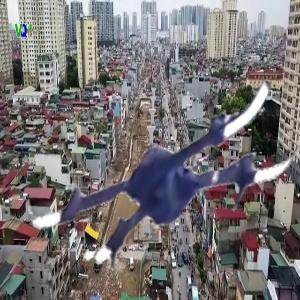drone: (24, 23, 295, 294)
